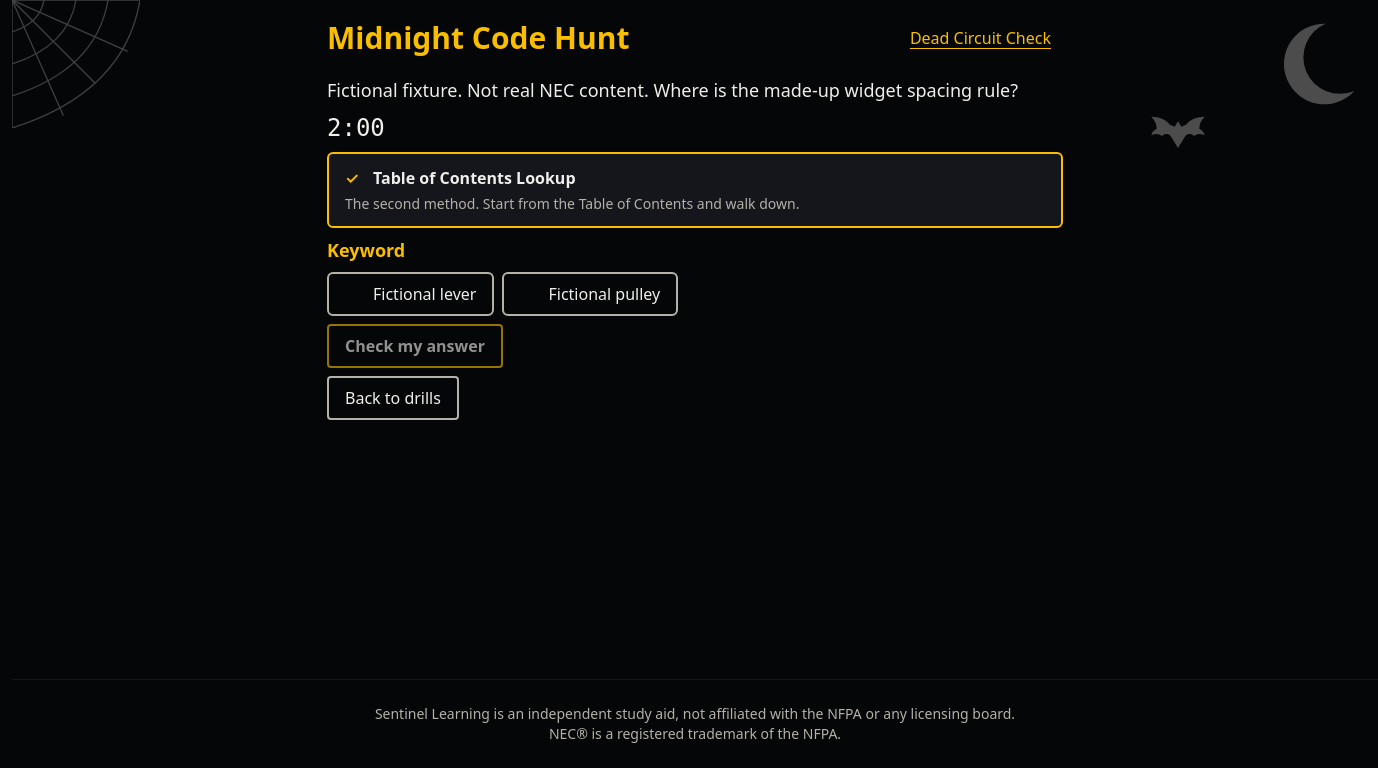
it: DrillScreen grading: Keyword_Pick › wrong Keyword_Pick with a matching path: keyword incorrect, overall incorrect, no best time
Click the button "Fictional pulley" at (590, 294), box 502,272 -> 678,316
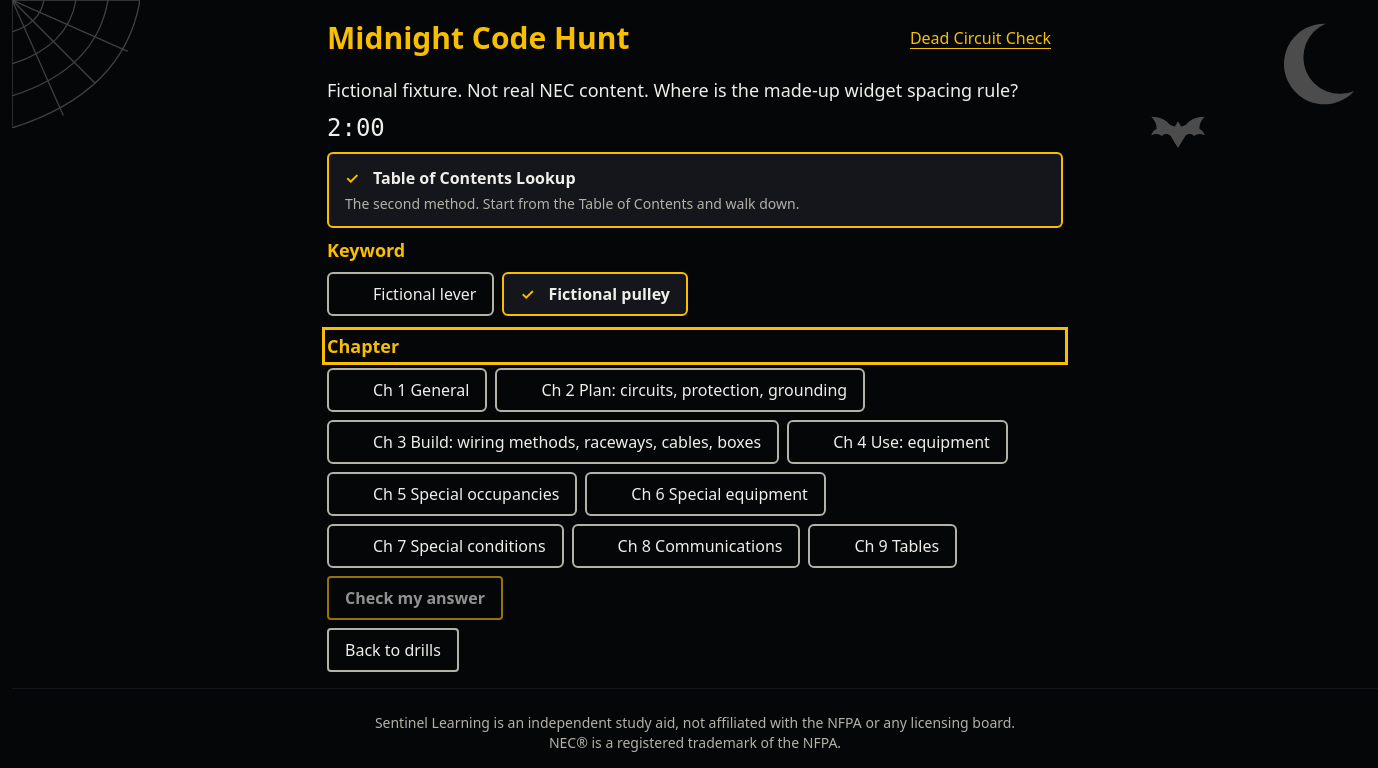
Click the button "Ch 3 Build: wiring methods, raceways, cables, boxes" at (553, 442), box 327,420 -> 779,464
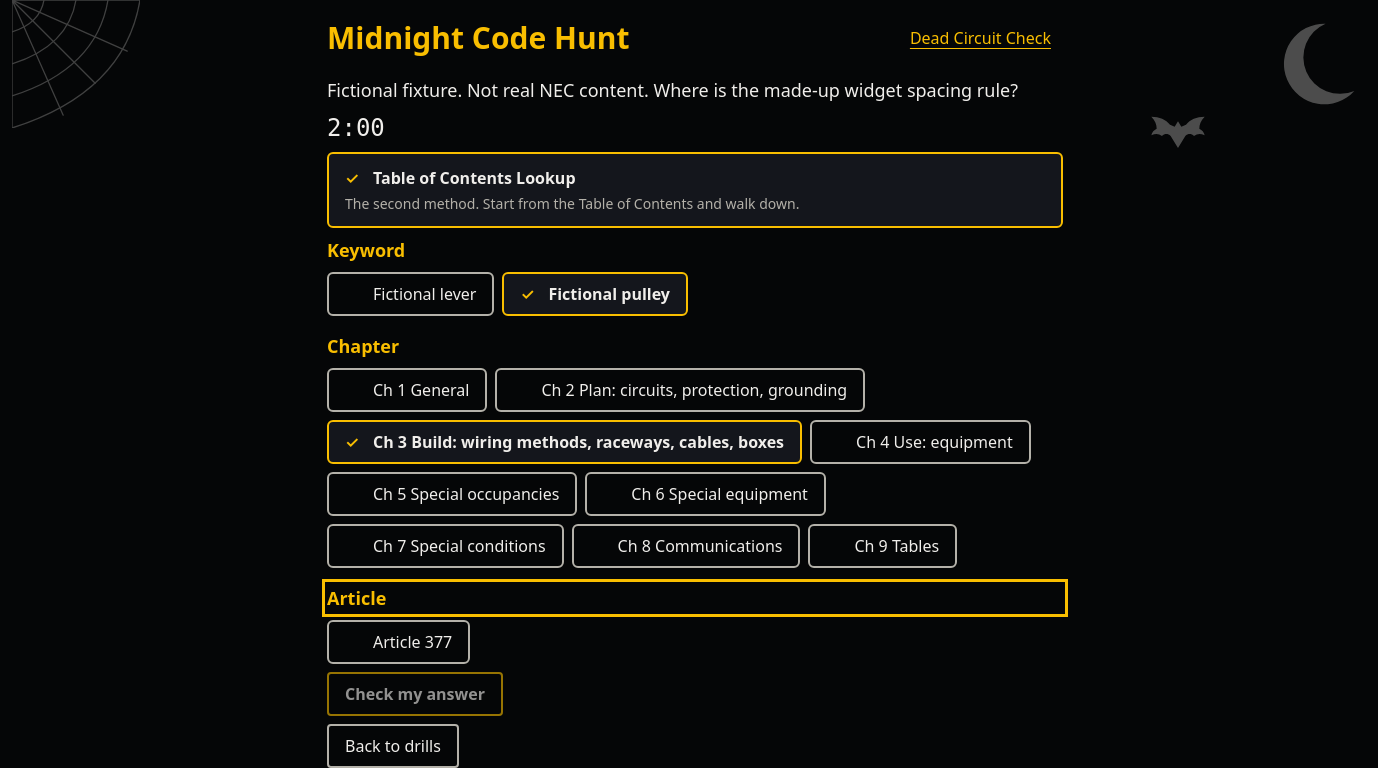
Click the button "Article 377" at (399, 642), box 327,620 -> 470,664
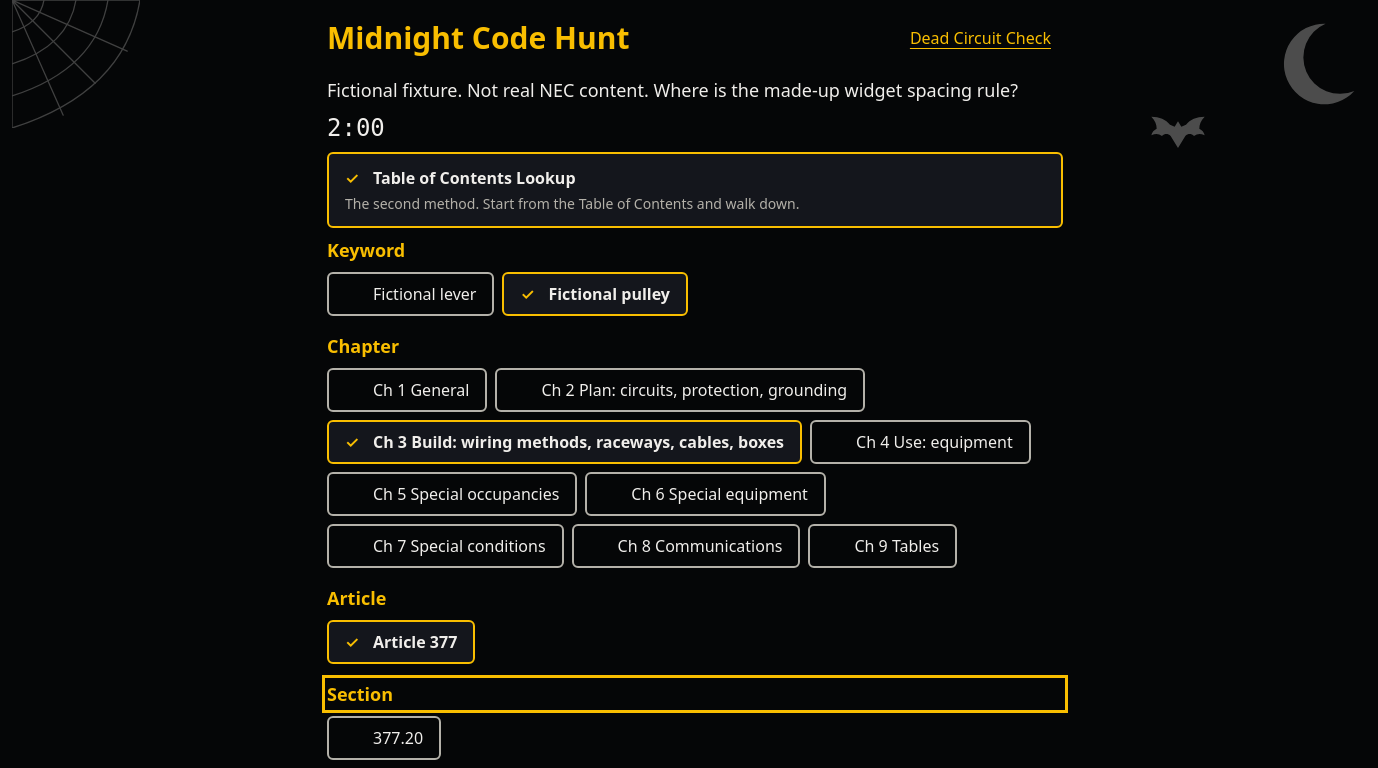
Click the button "377.20" at (384, 738), box 327,716 -> 441,760
(page scrolled)
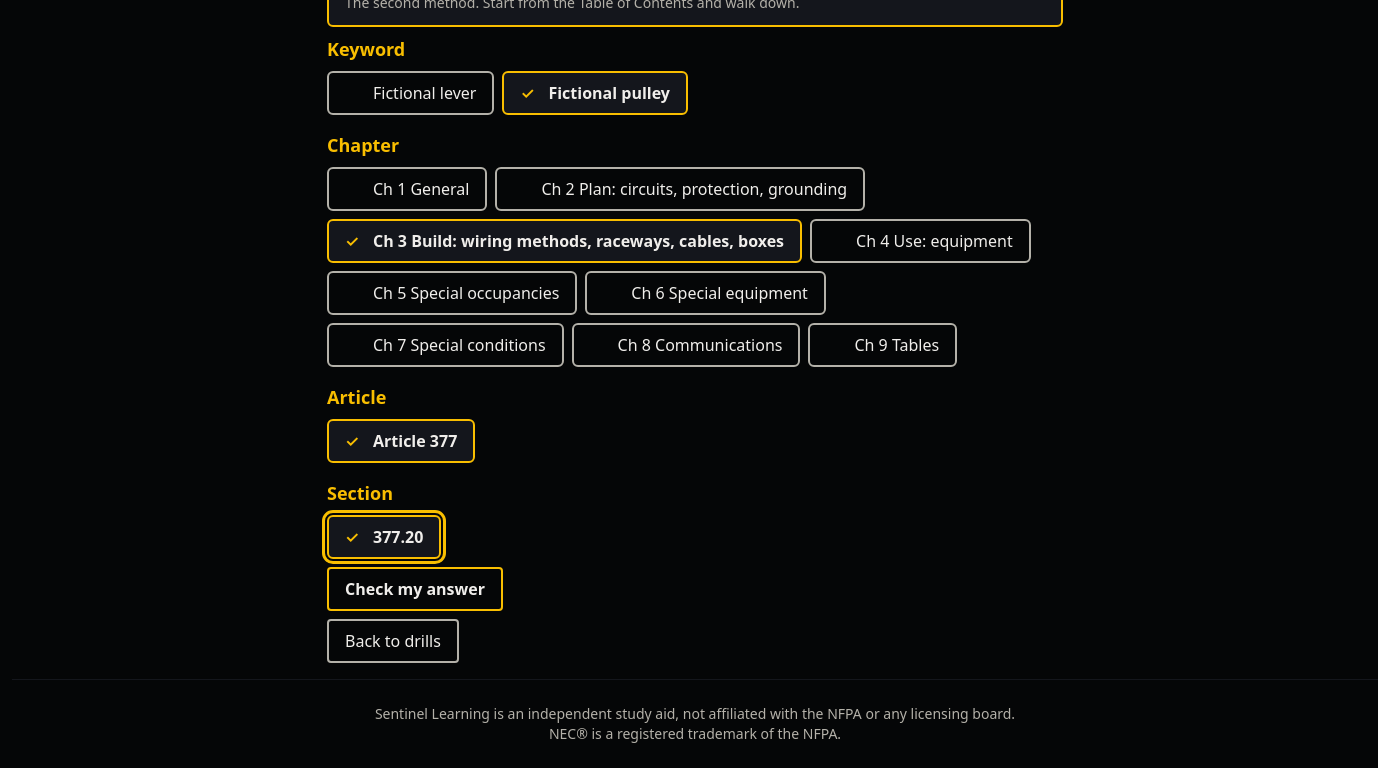
Click the button "Check my answer" at (415, 589), box 327,567 -> 503,611
(page scrolled)
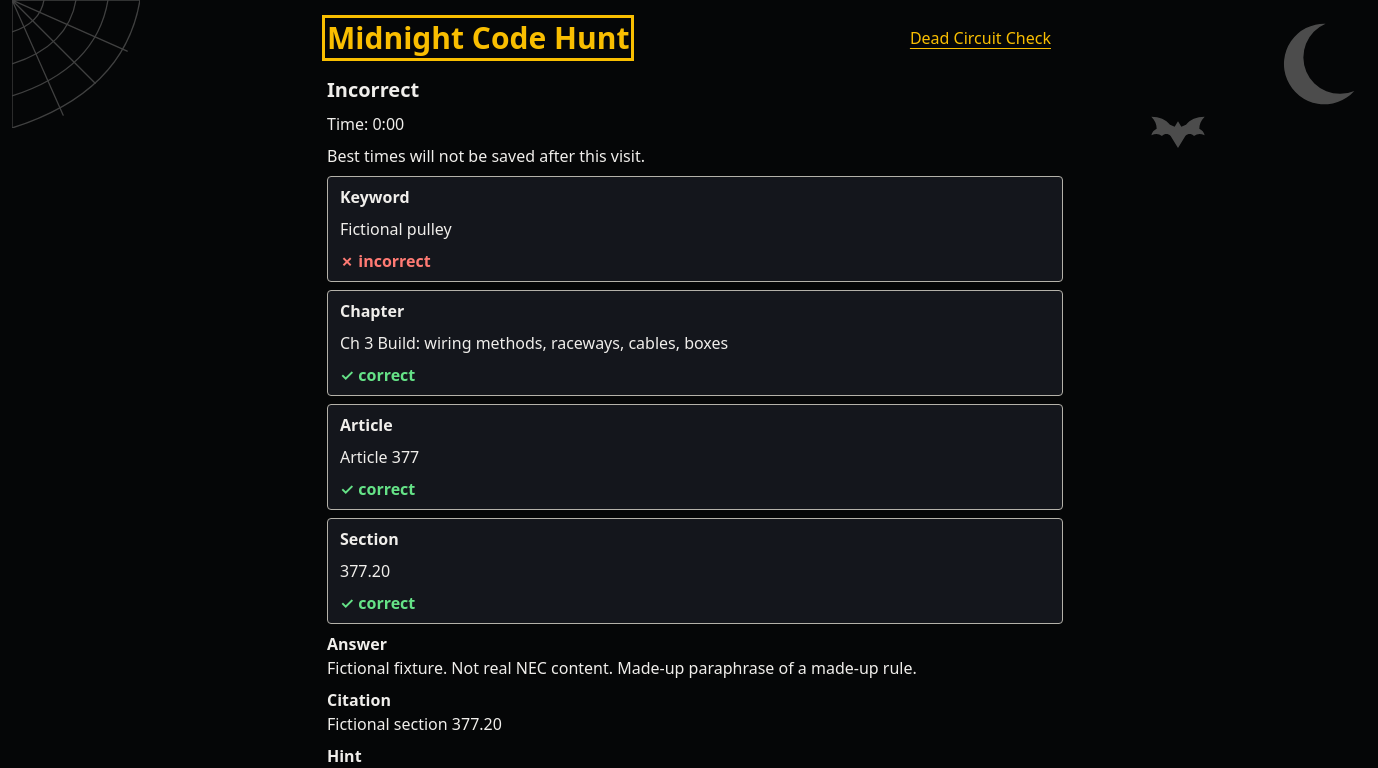
Check: the text "Incorrect" is shown, box 327,76 -> 419,103
